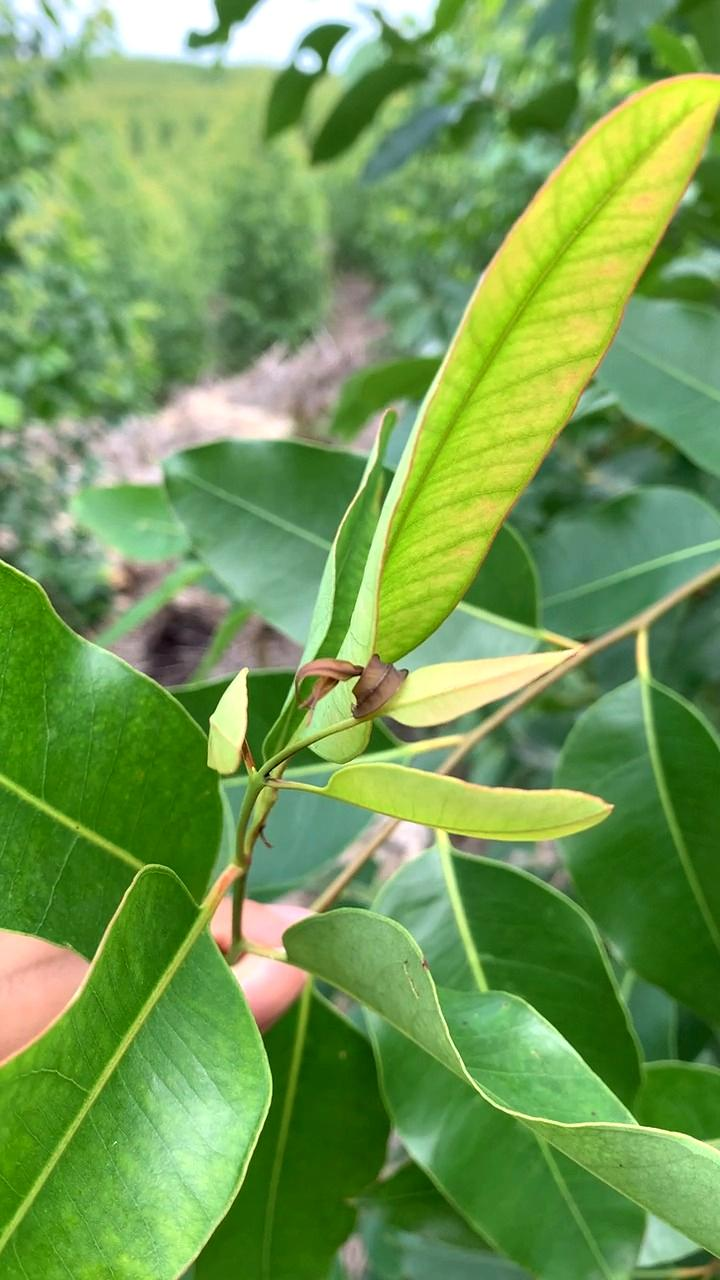Helopeltis-Withered Sprout: (279, 623, 423, 747)
